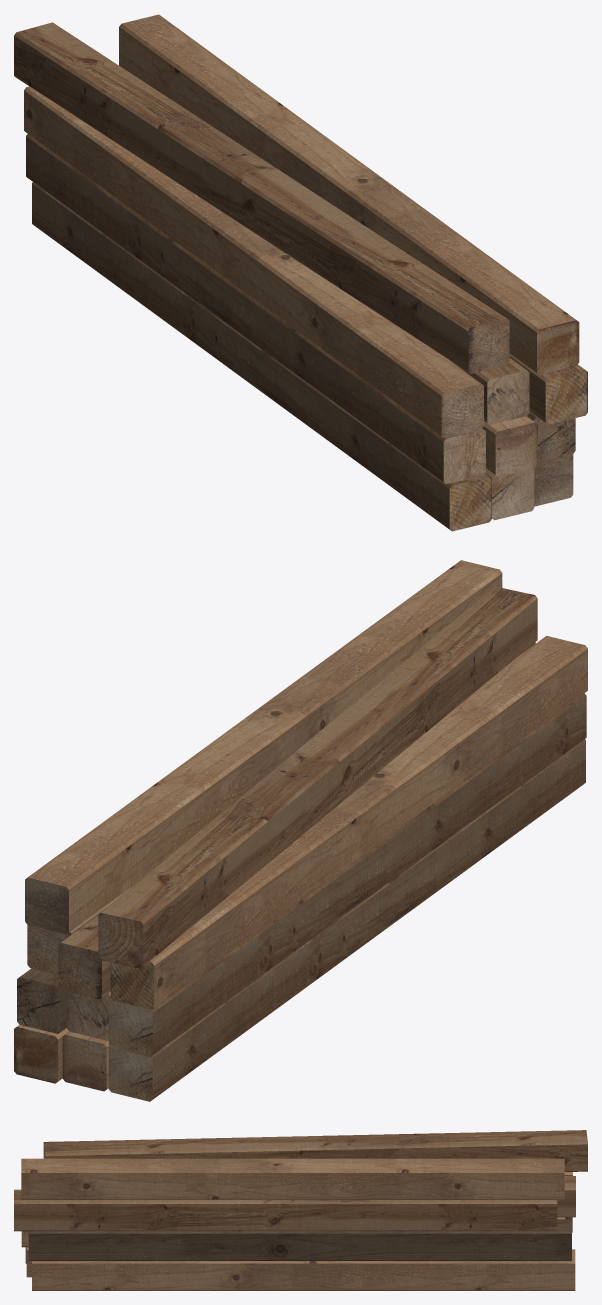
Rendered from Con_log2.fbx.
3 views of the same model, one above another, from view 1: azimuth 30°, elevation 25°; view 2: azimuth 150°, elevation 25°; view 3: azimuth 270°, elevation 25° (orthographic). The views are drawn at different scales.
Visible parts, largest first — view 1: SM_Log02; view 2: SM_Log02; view 3: SM_Log02.
Boxes of the visible parts, x1=… form: SM_Log02: x1=14, y1=14, x2=587, y2=531; SM_Log02: x1=14, y1=560, x2=587, y2=1101; SM_Log02: x1=14, y1=1130, x2=587, y2=1290.
Bounding box in the file's own units: 1.08 × 1.43 × 6.17.
Materials: 1 (1 with a texture image).
